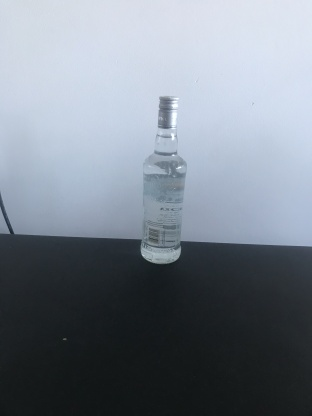nakretka: (156, 93, 180, 130)
